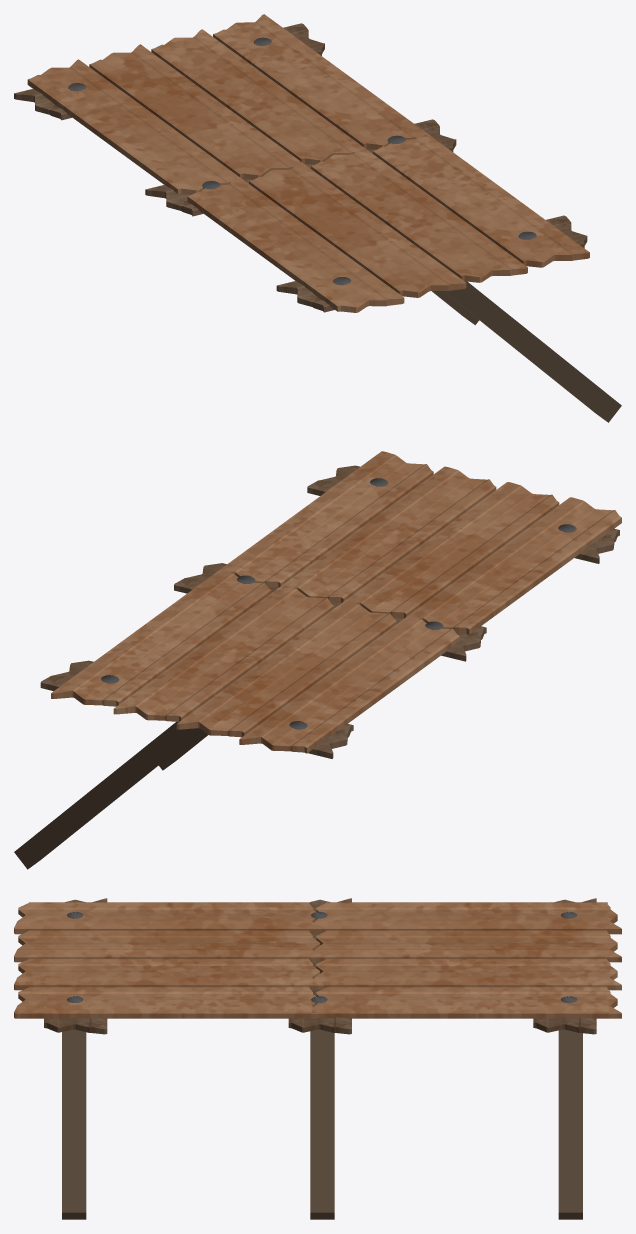
File: PlataformaMediana.fbx
The picture shows the model from 3 angles, top to bottom: view 1: azimuth 30°, elevation 25°; view 2: azimuth 150°, elevation 25°; view 3: azimuth 270°, elevation 25°; orthographic projection. The views are drawn at different scales.
Visible parts, largest first — view 1: TablasMedianas; view 2: TablasMedianas; view 3: TablasMedianas.
Part boxes in pixels (x1,y1,x2,y2): TablasMedianas: (14,14,621,422); TablasMedianas: (14,451,621,869); TablasMedianas: (14,898,621,1219).
Bounding box in the file's own units: 10.91 × 6.52 × 19.18.
Materials: 4 (2 with a texture image).
